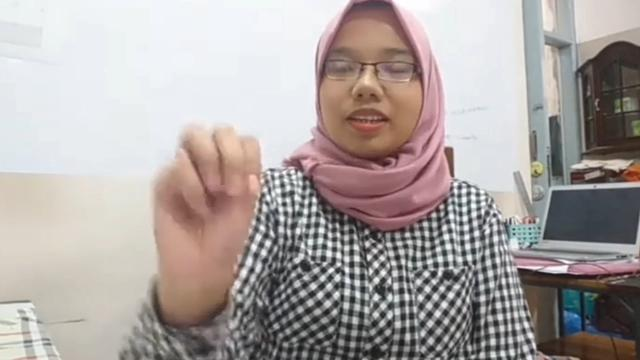M: (140, 118, 268, 242)
